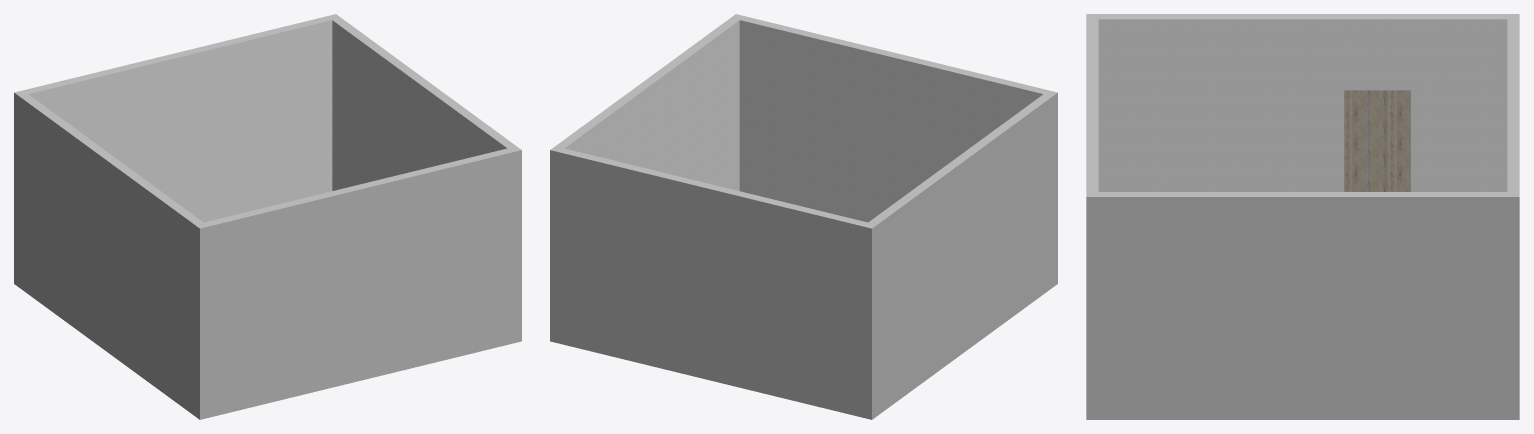
Rendered from Office-Medium_Square.obj.
3 renders of one model, left to right at view 1: azimuth 30°, elevation 25°; view 2: azimuth 150°, elevation 25°; view 3: azimuth 270°, elevation 25°, orthographic. The views are drawn at different scales.
Parts seen in each view (by area): view 1: mesh2, mesh6, mesh1, mesh7, mesh5; view 2: mesh0, mesh8, mesh1, mesh7, mesh5; view 3: mesh3, mesh9, mesh5, mesh12.
Part boxes in pixels (box(x1,y1,x2,y2)): mesh2: box(200, 150, 521, 419); mesh6: box(29, 20, 332, 222); mesh1: box(14, 93, 199, 419); mesh7: box(332, 20, 507, 190); mesh5: box(14, 14, 521, 228); mesh0: box(550, 150, 871, 419); mesh8: box(739, 20, 1042, 222); mesh1: box(872, 93, 1057, 419); mesh7: box(564, 20, 739, 190); mesh5: box(550, 14, 1057, 228); mesh3: box(1086, 197, 1519, 419); mesh9: box(1098, 19, 1507, 191); mesh5: box(1086, 14, 1519, 196); mesh12: box(1344, 90, 1410, 191).
Size of the model in its own units: 5.3 by 3.01 by 5.3.
